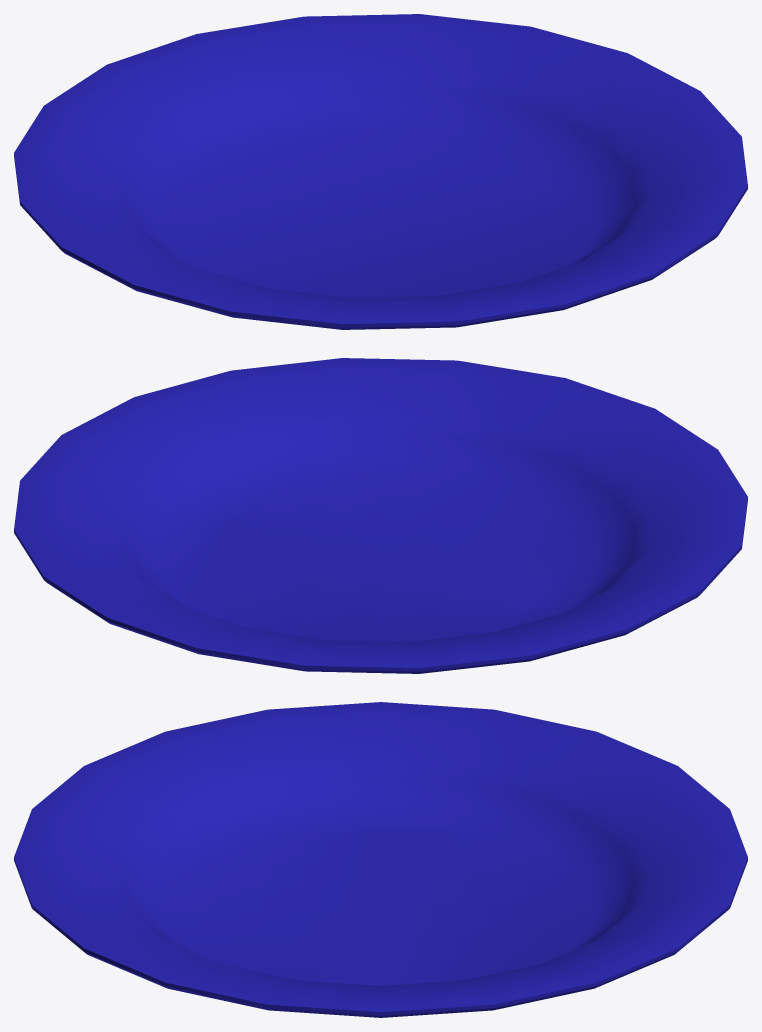
Rendered from BluePlate.fbx.
3 views of the same model, one above another, from view 1: azimuth 30°, elevation 25°; view 2: azimuth 150°, elevation 25°; view 3: azimuth 270°, elevation 25° (orthographic).
Parts seen in each view (by area): view 1: pCylinder8; view 2: pCylinder8; view 3: pCylinder8.
Part boxes in pixels (x1,y1,x2,y2): pCylinder8: [14, 14, 747, 329]; pCylinder8: [14, 358, 747, 673]; pCylinder8: [14, 702, 747, 1017].
Bounding box in the file's own units: 2.52 × 0.2146 × 2.52.
